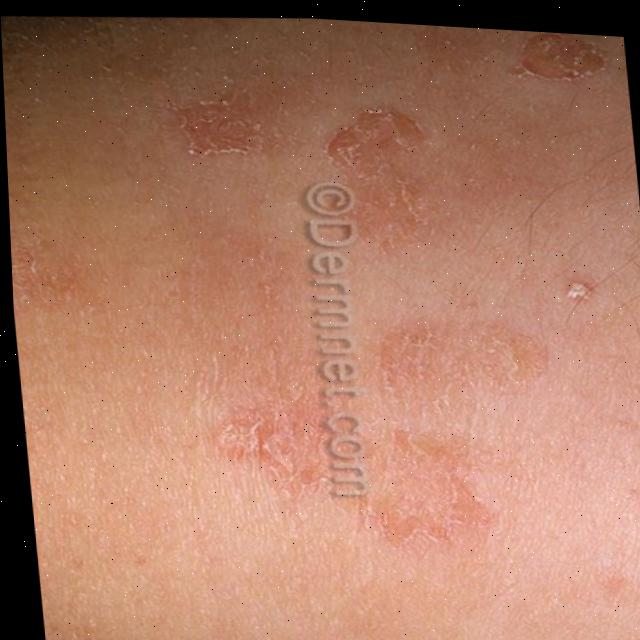Eczema: (223, 301, 571, 556), (329, 110, 442, 236), (200, 96, 261, 160), (535, 32, 603, 82)
